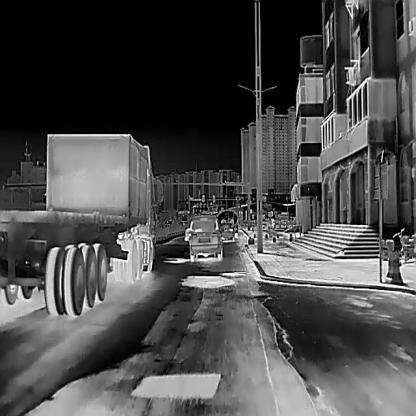car: (188, 214, 223, 260), (220, 222, 234, 240), (184, 227, 190, 241)
truck: (0, 131, 162, 316)
